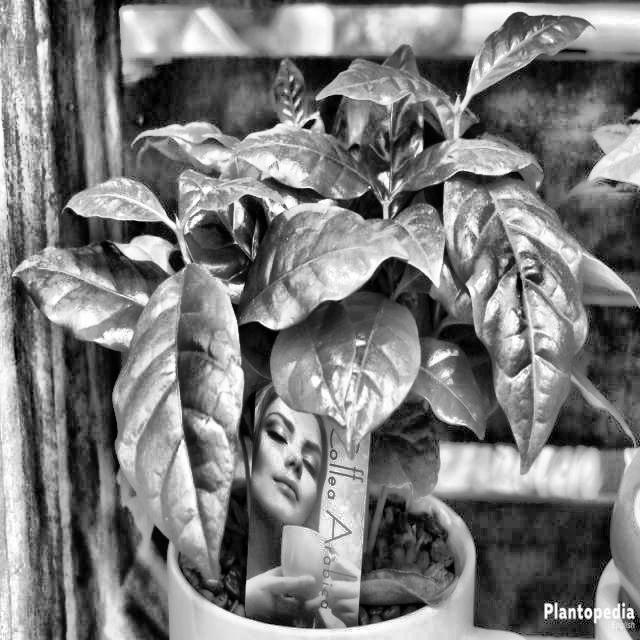plants: (85, 34, 594, 412)
